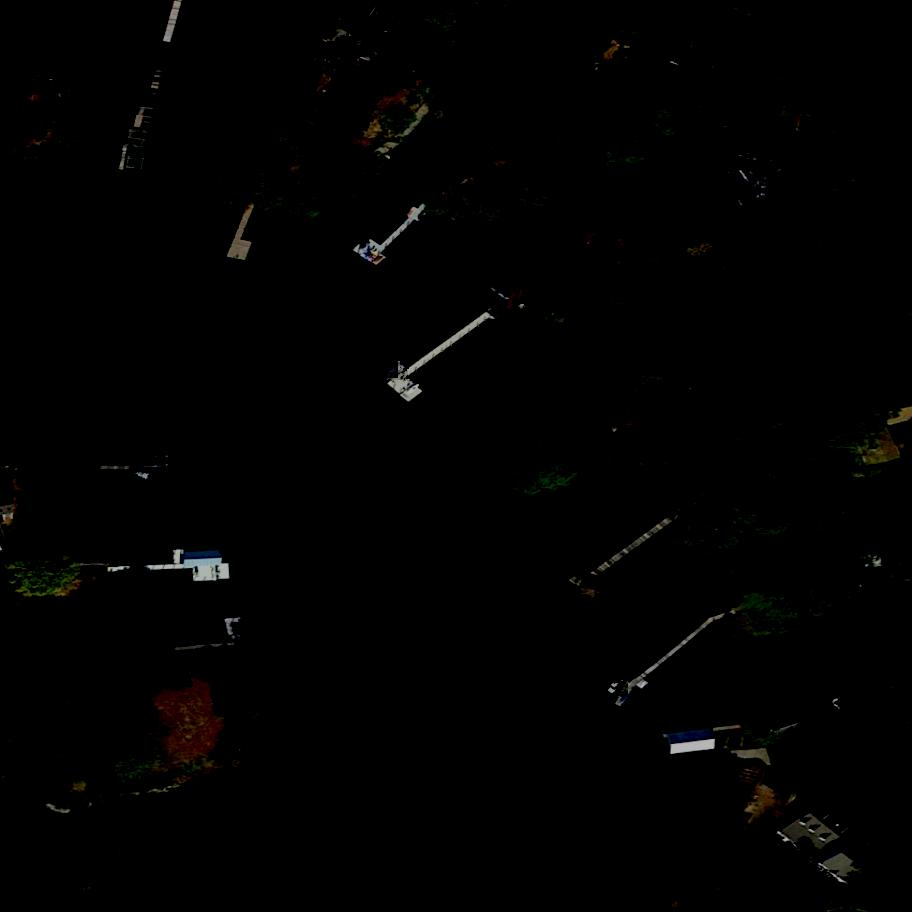ship: (130, 467, 167, 488), (602, 673, 630, 700), (373, 350, 398, 380), (382, 362, 409, 381)
